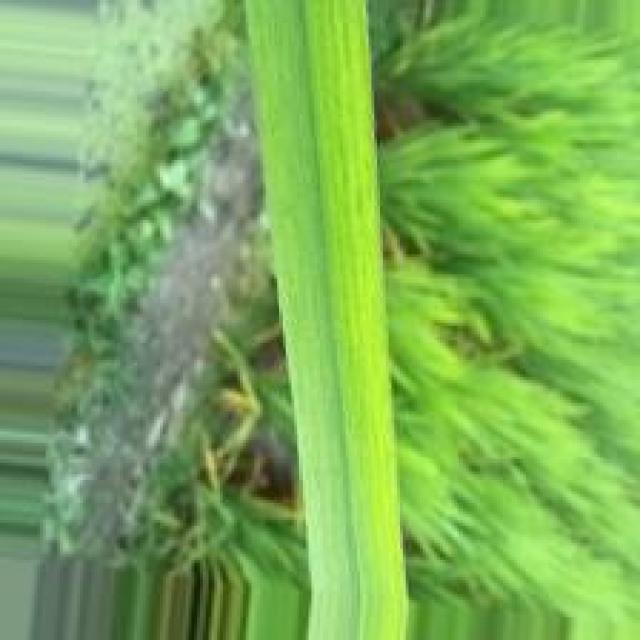HealthyLeaf: (252, 6, 372, 594)
